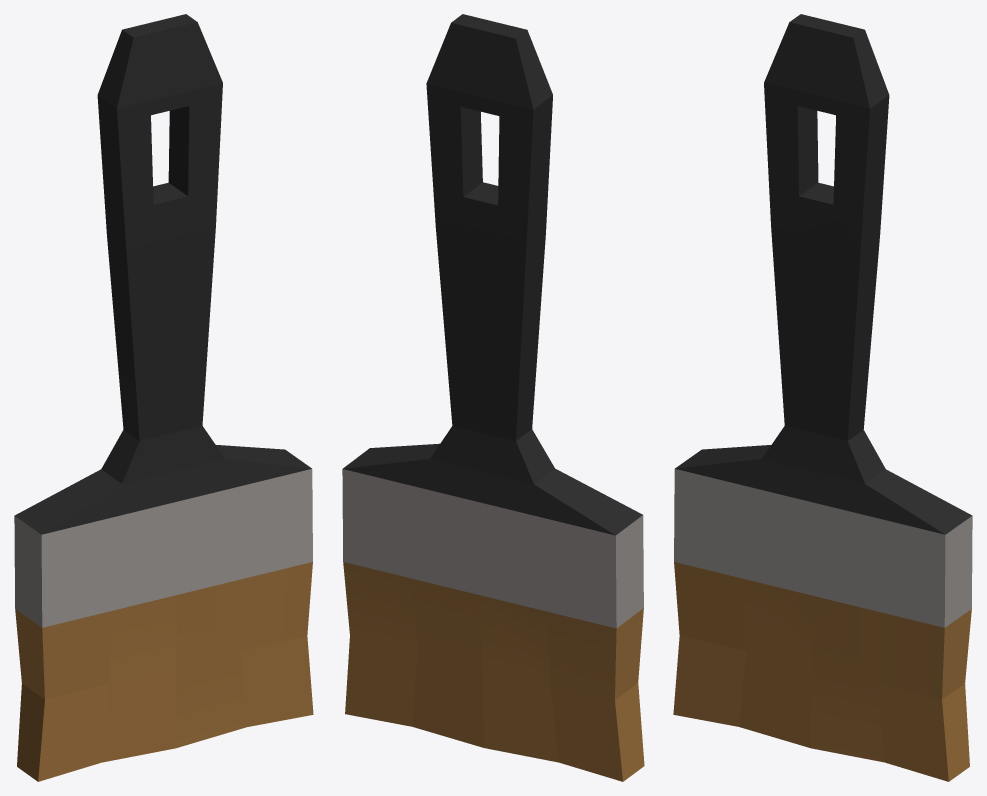
Rendered from tools_brush-straight-wide.fbx.
The picture shows the model from 3 angles, left to right: view 1: azimuth 30°, elevation 25°; view 2: azimuth 150°, elevation 25°; view 3: azimuth 330°, elevation 25°; orthographic projection.
Visible parts, largest first — view 1: tools_brush_straight_wide; view 2: tools_brush_straight_wide; view 3: tools_brush_straight_wide.
Part boxes in pixels (box(x1,y1,x2,y2)): tools_brush_straight_wide: box(14, 14, 313, 781); tools_brush_straight_wide: box(342, 14, 644, 781); tools_brush_straight_wide: box(673, 14, 972, 781).
Size of the model in its own units: 81.05 by 200 by 14.19.
